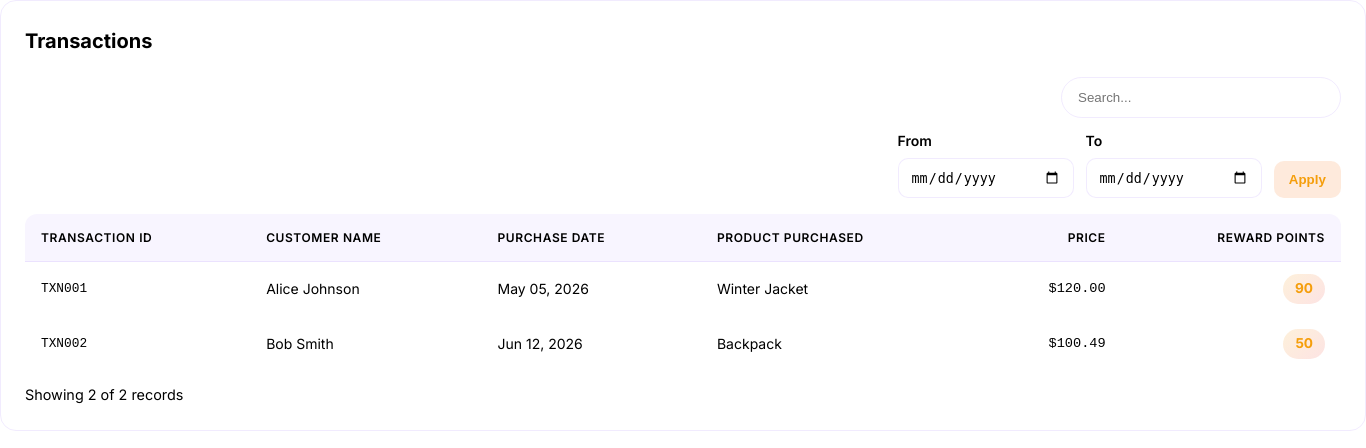
Test case: TransactionsTable › renders no-results message and keeps filter controls visible when a date filter returns no rows
Type "2026-04-01" into the date field named "from date".
click(986, 178); type("2026-04-01")  # box [898,158,1074,198]
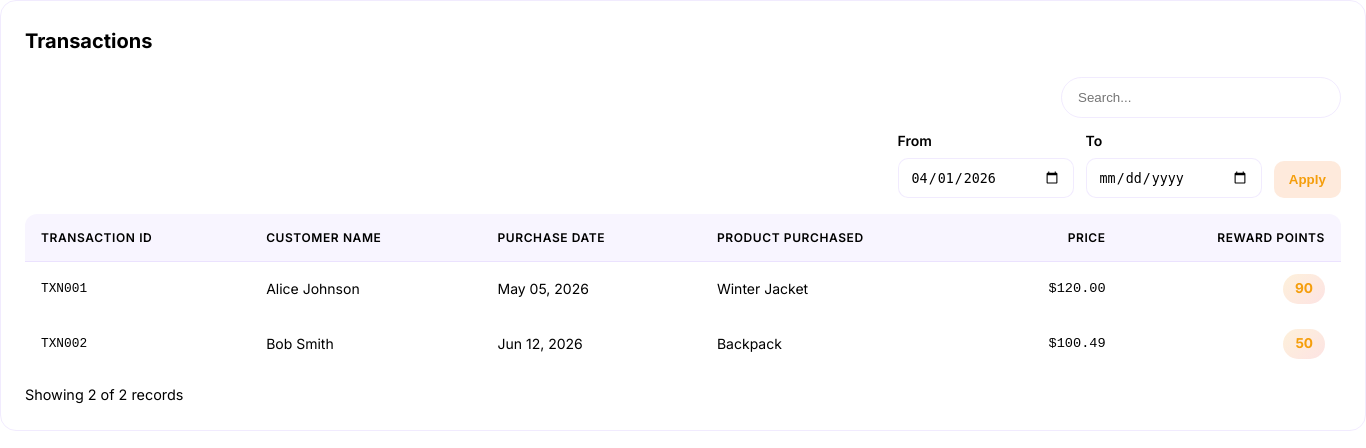
Type "2026-04-30" into the date field named "to date".
click(1174, 178); type("2026-04-30")  # box [1086,158,1262,198]
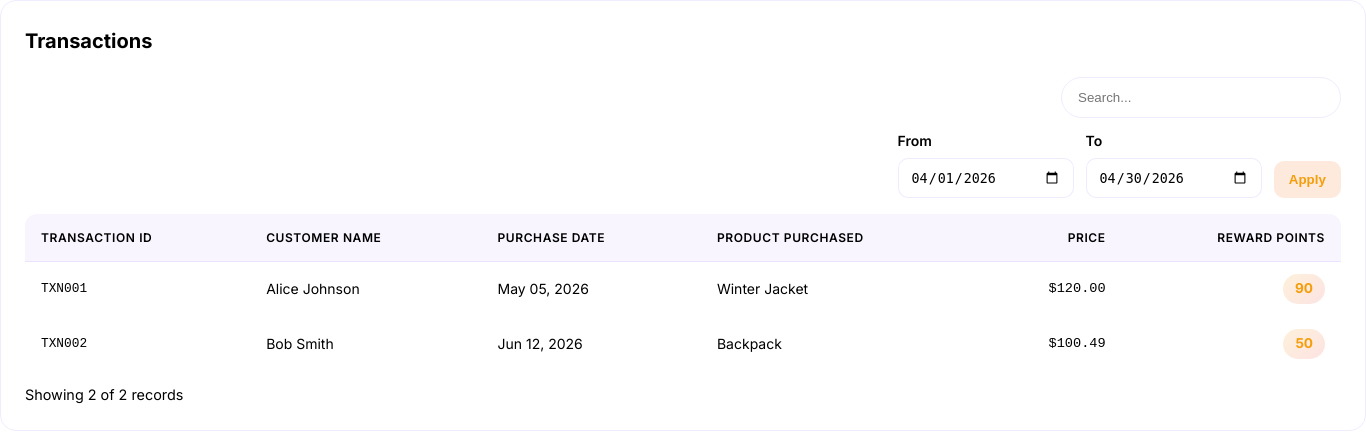
Click the button "Apply".
click(1307, 179)  # box [1274,161,1341,198]
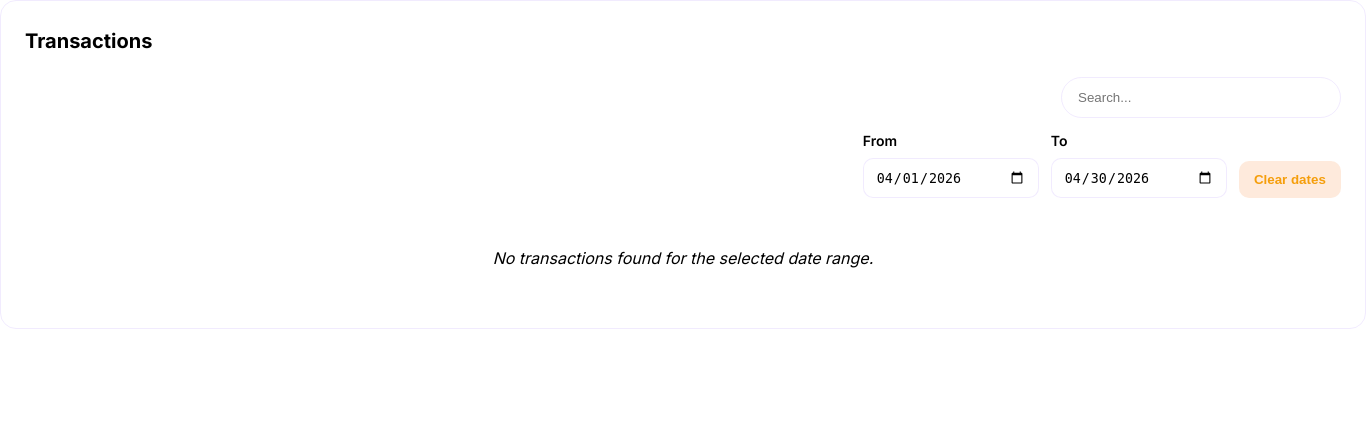
Check: the text "No transactions found for the selected date range." is shown, box [493,248,873,268]
Check: the button "Clear dates" is shown, box [1239,161,1341,198]
